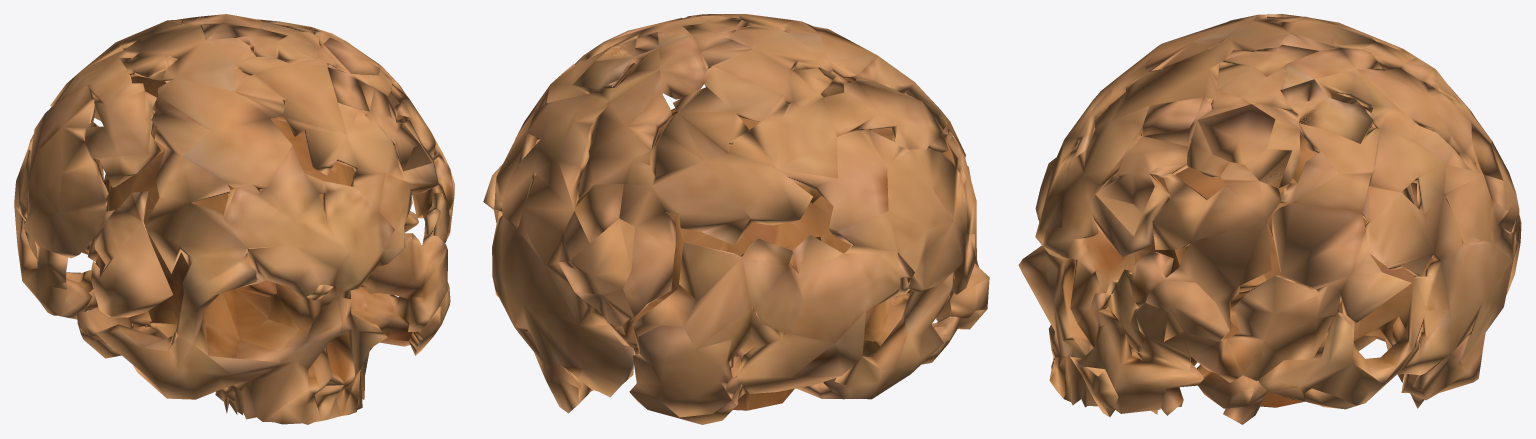
Rendered from skull.glb.
The picture shows the model from 3 angles, left to right: view 1: azimuth 30°, elevation 25°; view 2: azimuth 150°, elevation 25°; view 3: azimuth 270°, elevation 25°; orthographic projection. The views are drawn at different scales.
Parts seen in each view (by area): view 1: skull; view 2: skull; view 3: skull.
Boxes of the visible parts, box(x1,y1,x2,y2) form: skull: box(14, 14, 454, 424); skull: box(483, 14, 989, 424); skull: box(1018, 14, 1521, 424).
Bounding box in the file's own units: 0.2315 × 0.1846 × 0.24.
Materials: 1 (1 with a texture image).
